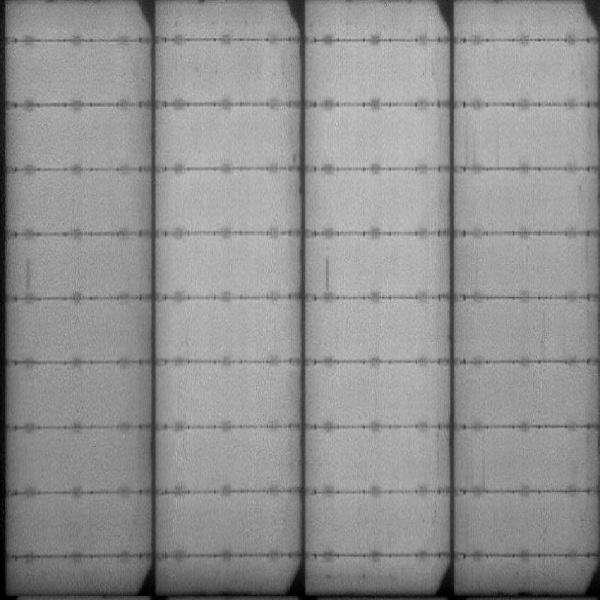scratch: (321, 253, 335, 292)
